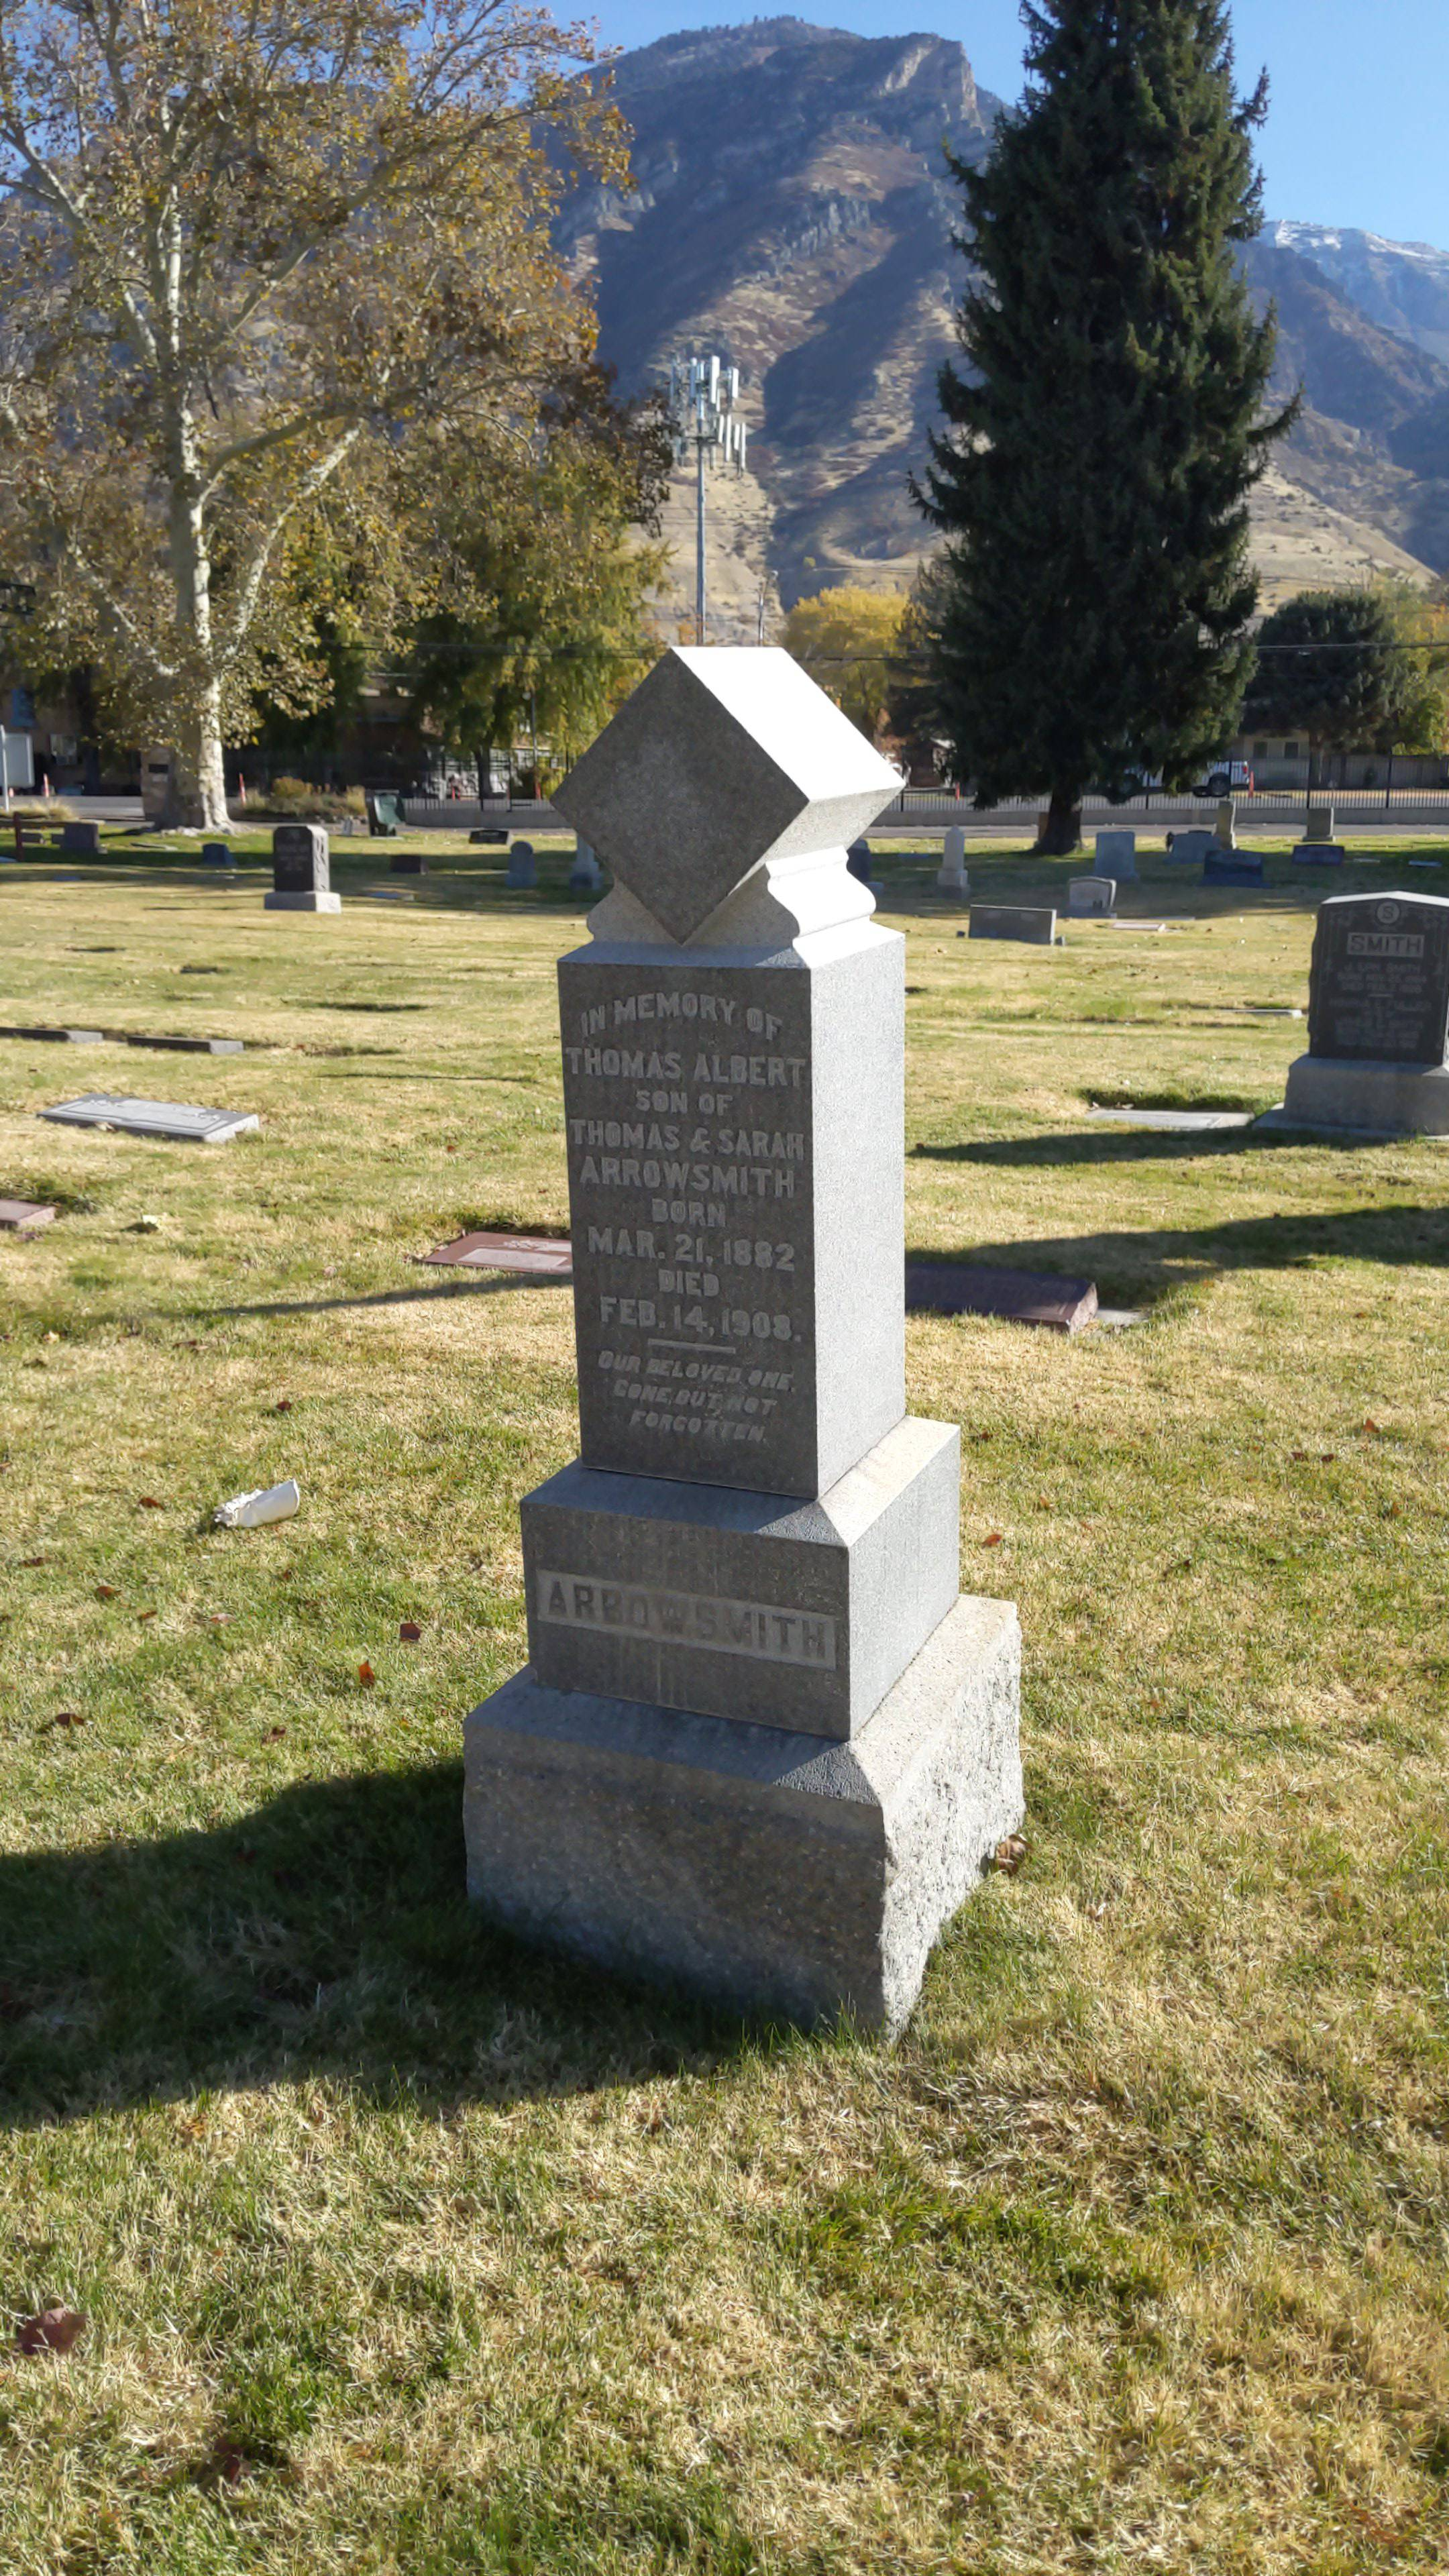obelisk: (522, 644, 959, 1746)
